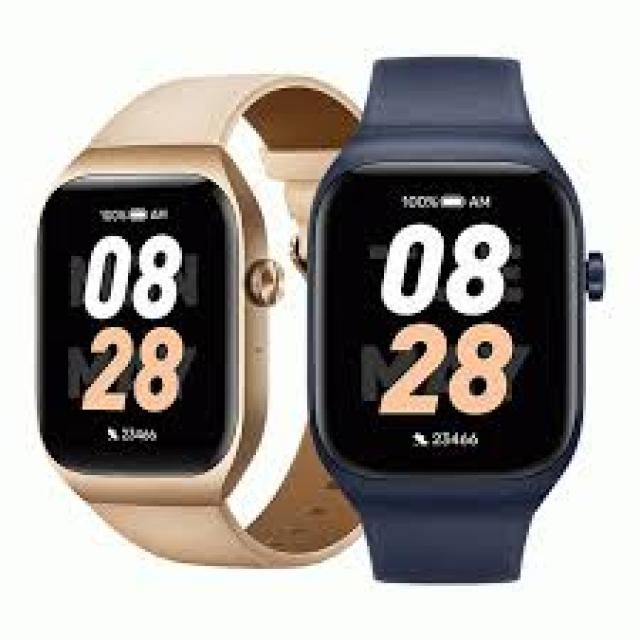objects: (37, 74, 356, 563), (310, 60, 583, 577)
